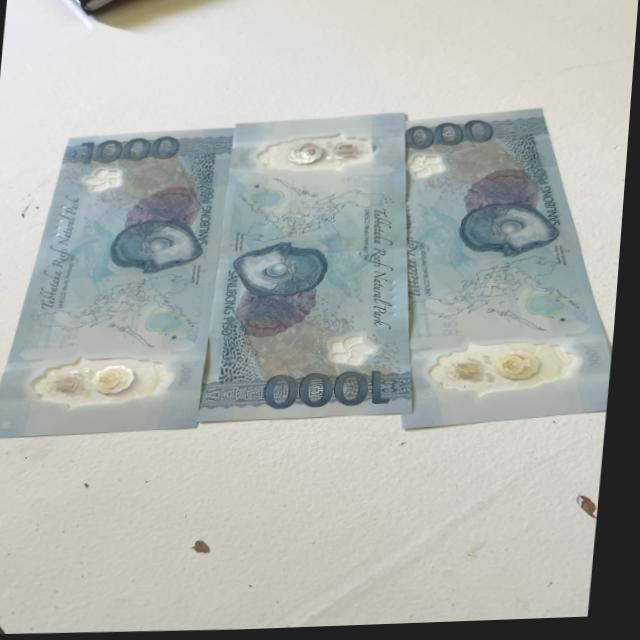clear_window: (430, 338, 596, 399), (21, 355, 191, 414), (246, 133, 383, 181)
sampaguita: (315, 334, 388, 369), (394, 151, 451, 184), (76, 163, 131, 194)
